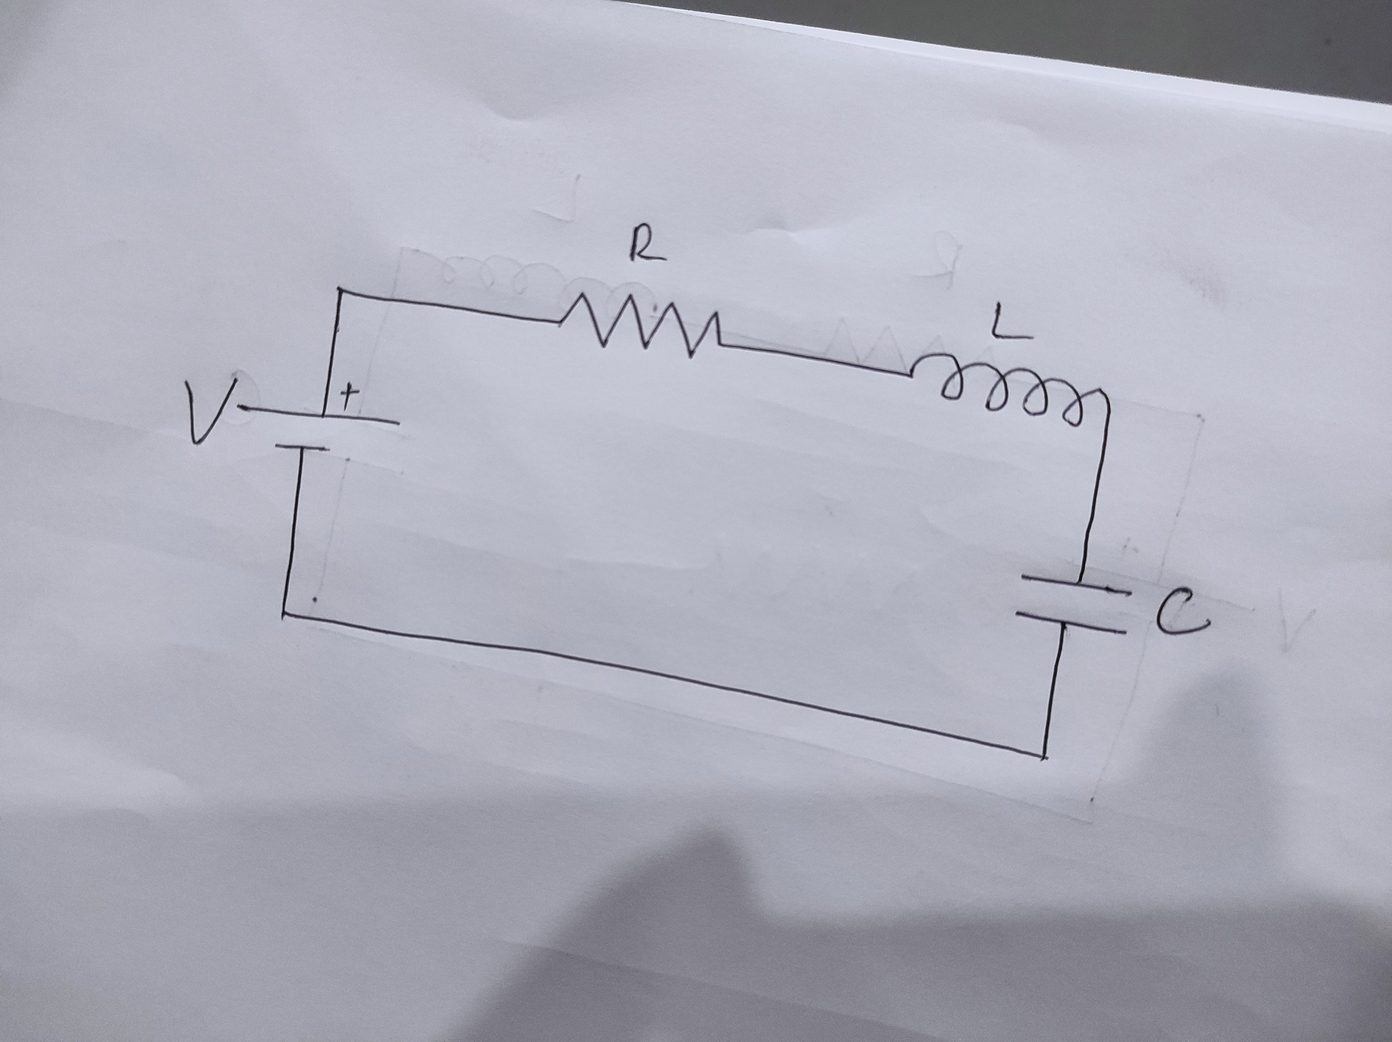capacitor.unpolarized: (1010, 567, 1137, 639)
inductor: (904, 349, 1115, 430)
junction: (329, 279, 353, 305), (1031, 746, 1055, 769), (276, 606, 291, 622)
resistor: (543, 280, 739, 364)
text: (181, 373, 241, 449), (1155, 583, 1214, 639), (624, 216, 672, 269), (986, 299, 1037, 343)
voltage.dc: (232, 379, 404, 456)
